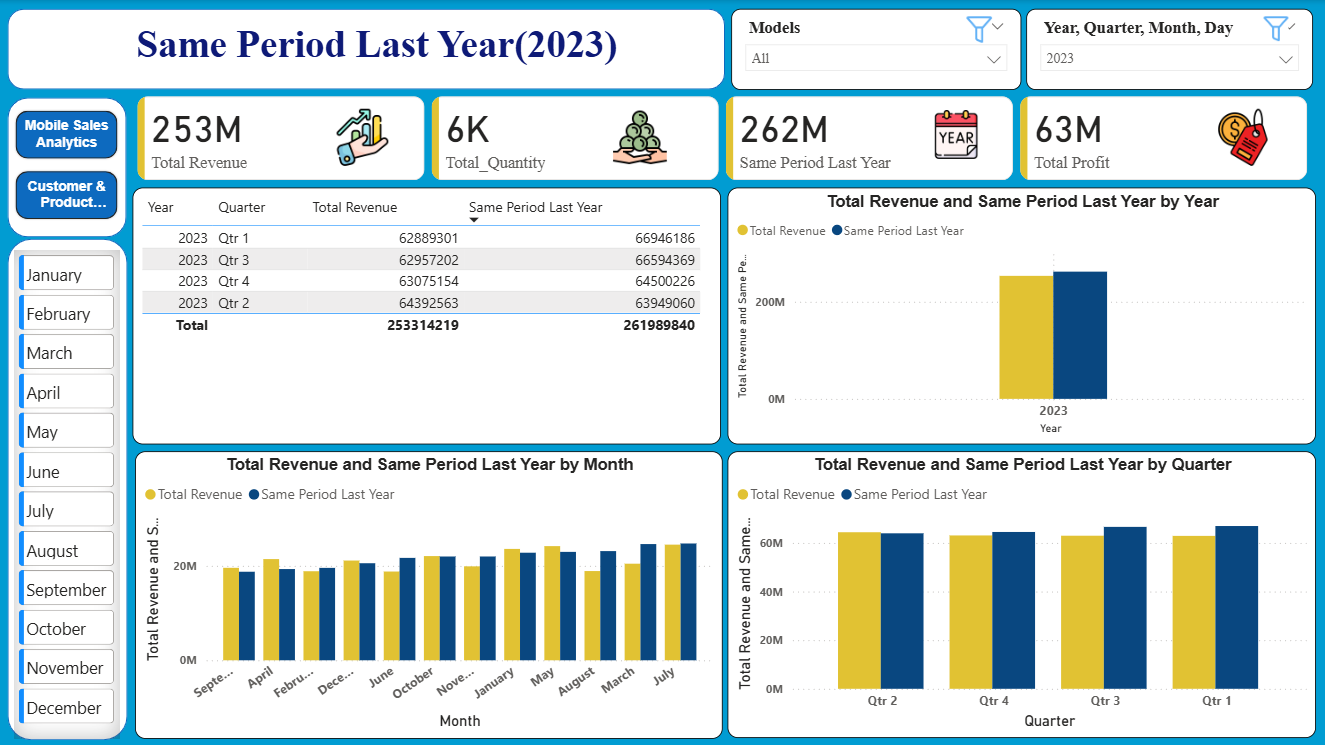

Layout of this report page (visuals, bound fields, positions):
{"tool":"powerbi","page":{"name":"Same Period Last Year(2023)","canvas":[1280,720],"ordinal":2},"visuals":[{"type":"shape","box":[7.2,94.1,115,135],"z":0},{"type":"shape","box":[7.2,230.4,115.8,484],"z":1000},{"type":"advancedSlicerVisual","fields":{"Values":["Custom_Calender.Date.Variation.Date Hierarchy.Month"]},"box":[13.3,241.3,102.5,471.7],"z":2000},{"type":"cardVisual","fields":{"Data":["Mobile Sales.Total Revenue","Mobile Sales.Total_Quantity","Mobile Sales.Same Period Last Year","Mobile Sales.Total Profit"]},"box":[115.8,76,1164.2,115],"z":3000},{"type":"image","box":[265,105,168.8,55],"z":4000},{"type":"image","box":[533.8,105,168.8,55],"z":5000},{"type":"image","box":[1120,105,160,55],"z":6000},{"type":"slicer","fields":{"Values":["Mobile Sales.Model"]},"box":[705.8,8.4,279.9,78],"z":7000},{"type":"slicer","fields":{"Values":["Custom_Calender.Date.Variation.Date Hierarchy.Year","Custom_Calender.Date.Variation.Date Hierarchy.Quarter","Custom_Calender.Date.Variation.Date Hierarchy.Month","Custom_Calender.Date.Variation.Date Hierarchy.Day"]},"box":[990.5,8.4,277,78],"z":8000},{"type":"image","box":[883.1,15.7,124.3,25.3],"z":9000},{"type":"image","box":[1183.5,15.7,96.5,24.1],"z":10000},{"type":"shape","box":[7.2,8.4,692.5,78],"z":11000},{"type":"textbox","box":[0,15.7,727.5,72.4],"z":12000},{"type":"tableEx","fields":{"Values":["Custom_Calender.Date.Variation.Date Hierarchy.Year","Custom_Calender.Date.Variation.Date Hierarchy.Quarter","Mobile Sales.Total Revenue","Mobile Sales.Same Period Last Year"]},"box":[127.9,181,568,248],"z":13000},{"type":"lineClusteredColumnComboChart","fields":{"Category":["Custom_Calender.Date.Variation.Date Hierarchy.Year","Custom_Calender.Date.Variation.Date Hierarchy.Quarter"],"Y":["Mobile Sales.Total Revenue","Mobile Sales.Same Period Last Year"]},"box":[702.1,181,568,248],"z":14000},{"type":"clusteredColumnChart","fields":{"Category":["Custom_Calender.Date.Variation.Date Hierarchy.Year","Custom_Calender.Date.Variation.Date Hierarchy.Quarter"],"Y":["Mobile Sales.Total Revenue","Mobile Sales.Same Period Last Year"]},"box":[702.1,435.5,568,277],"z":15000},{"type":"clusteredColumnChart","fields":{"Y":["Mobile Sales.Total Revenue","Mobile Sales.Same Period Last Year"],"Category":["Custom_Calender.Date.Variation.Date Hierarchy.Month"]},"box":[130.3,435.5,567,277.5],"z":16000},{"type":"pageNavigator","box":[13.3,105,102.5,109.8],"z":17000},{"type":"image","box":[845.7,106.2,154,47],"z":18000}]}

Visuals, with their boxes in screenshot pixels (x1, y1, x2, y2), scaled from the page's 1280x720 canvas onto the 1325x745 screenshot:
shape: BBox(7, 97, 126, 237)
shape: BBox(7, 238, 127, 739)
advancedSlicerVisual - Custom_Calender.Date.Variation.Date Hierarchy.Month: BBox(14, 250, 120, 738)
cardVisual - Mobile Sales.Total Revenue x Mobile Sales.Total_Quantity: BBox(120, 79, 1324, 198)
image: BBox(274, 109, 449, 166)
image: BBox(553, 109, 727, 166)
image: BBox(1159, 109, 1324, 166)
slicer - Mobile Sales.Model: BBox(731, 9, 1020, 89)
slicer - Custom_Calender.Date.Variation.Date Hierarchy.Year x Custom_Calender.Date.Variation.Date Hierarchy.Quarter: BBox(1025, 9, 1312, 89)
image: BBox(914, 16, 1043, 42)
image: BBox(1225, 16, 1324, 41)
shape: BBox(7, 9, 724, 89)
textbox: BBox(0, 16, 753, 91)
tableEx - Custom_Calender.Date.Variation.Date Hierarchy.Year x Custom_Calender.Date.Variation.Date Hierarchy.Quarter: BBox(132, 187, 720, 444)
lineClusteredColumnComboChart - Custom_Calender.Date.Variation.Date Hierarchy.Year x Custom_Calender.Date.Variation.Date Hierarchy.Quarter: BBox(727, 187, 1315, 444)
clusteredColumnChart - Custom_Calender.Date.Variation.Date Hierarchy.Year x Custom_Calender.Date.Variation.Date Hierarchy.Quarter: BBox(727, 451, 1315, 737)
clusteredColumnChart - Mobile Sales.Total Revenue x Mobile Sales.Same Period Last Year: BBox(135, 451, 722, 738)
pageNavigator: BBox(14, 109, 120, 222)
image: BBox(875, 110, 1035, 159)
